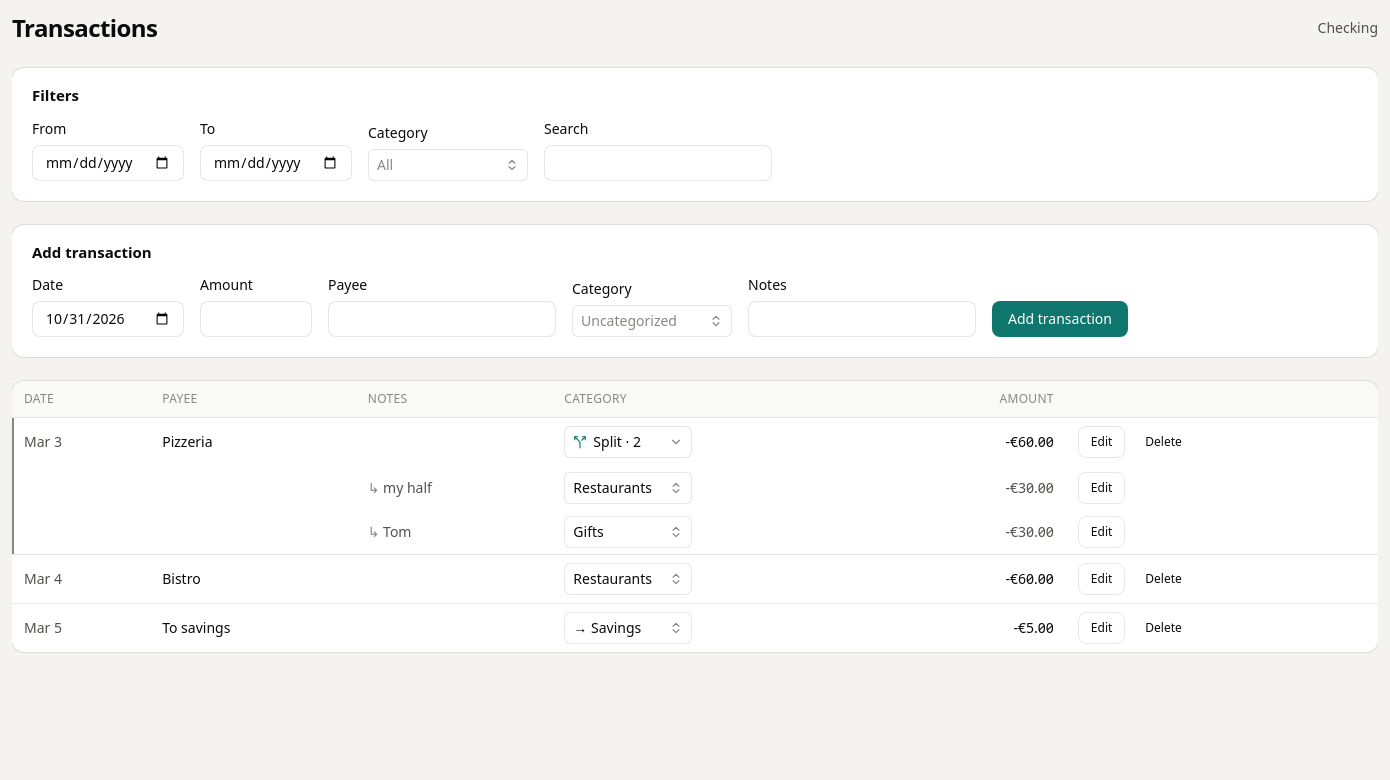
Scenario: splits in the ledger › opens the split editor from a part's Edit
Click the button "Edit" in the row of "Tom" at x=1102, y=532, box 1078,516 -> 1125,548
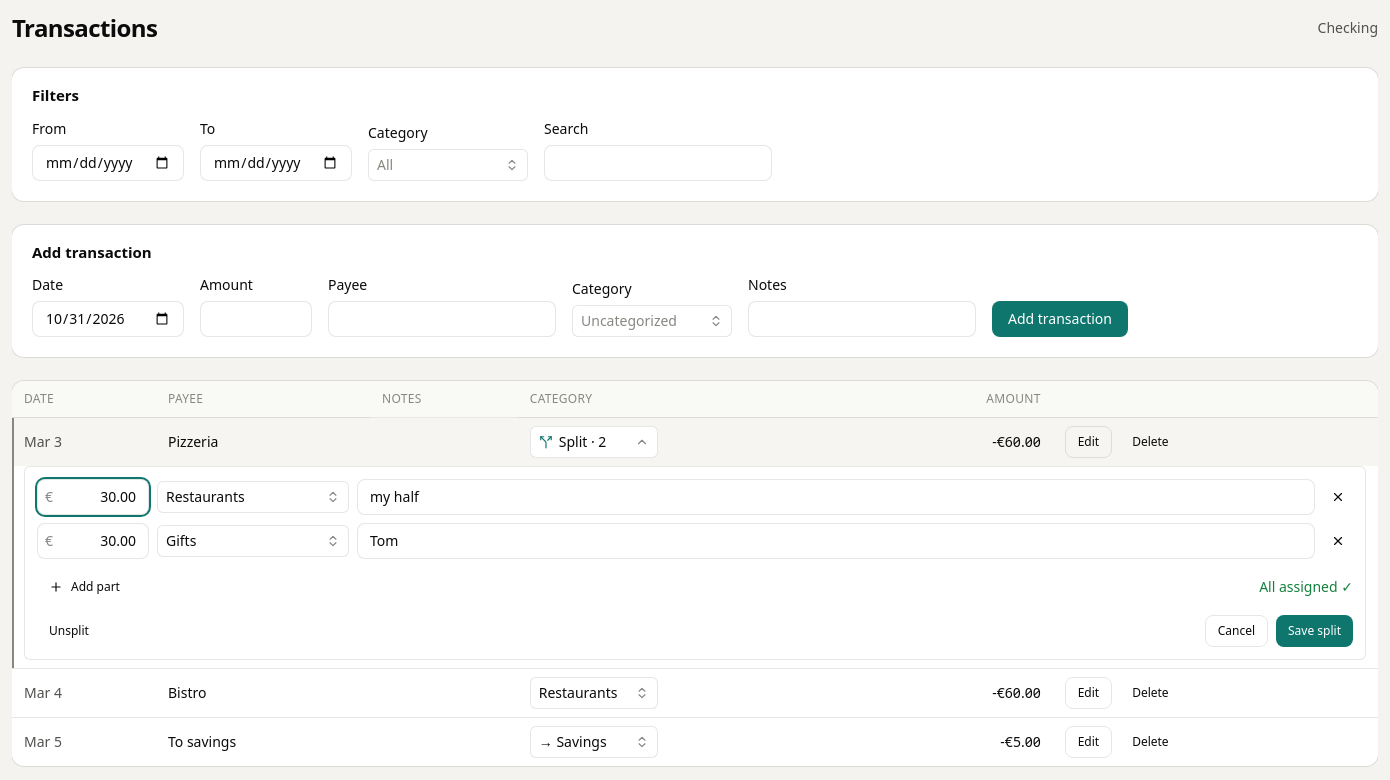
Result: the form named "Split transaction" is shown at 24,466 -> 1366,660
